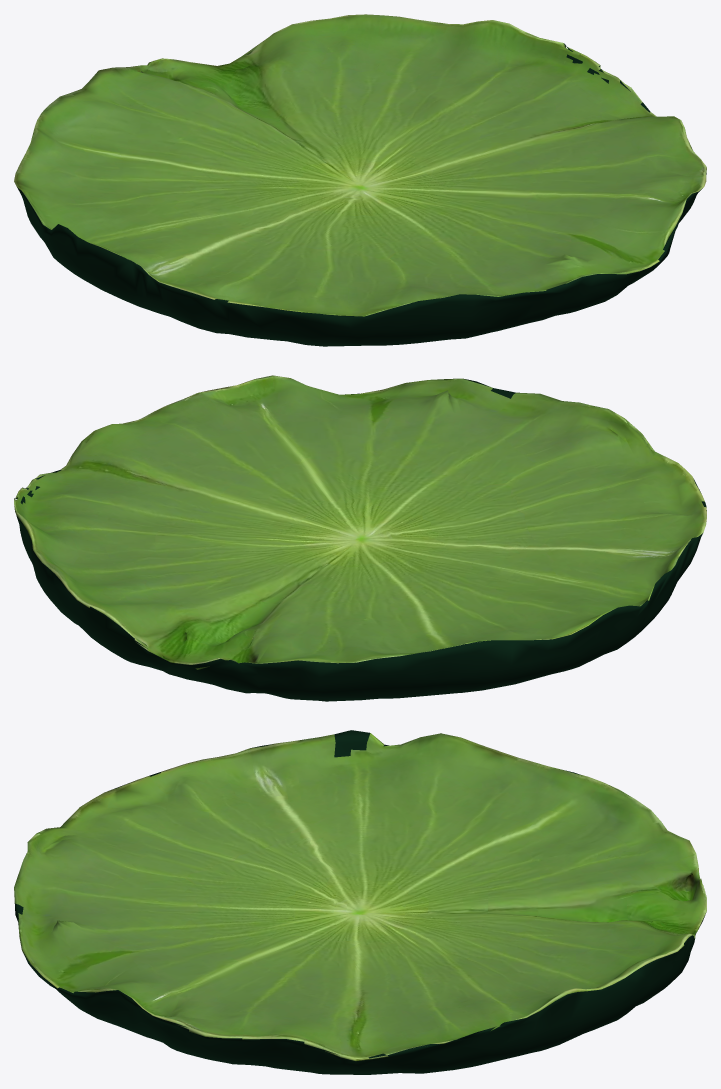
Rendered from leaf2.glb.
3 views of the same model, one above another, from view 1: azimuth 30°, elevation 25°; view 2: azimuth 150°, elevation 25°; view 3: azimuth 270°, elevation 25° (orthographic).
Visible parts, largest first — view 1: Mesh_0; view 2: Mesh_0; view 3: Mesh_0.
Part boxes in pixels (x1,y1,x2,y2): Mesh_0: [14, 14, 706, 346]; Mesh_0: [14, 375, 706, 701]; Mesh_0: [14, 730, 706, 1074].
Size of the model in its own units: 1.99 by 0.3932 by 1.98.
2 materials, 1 textured.
